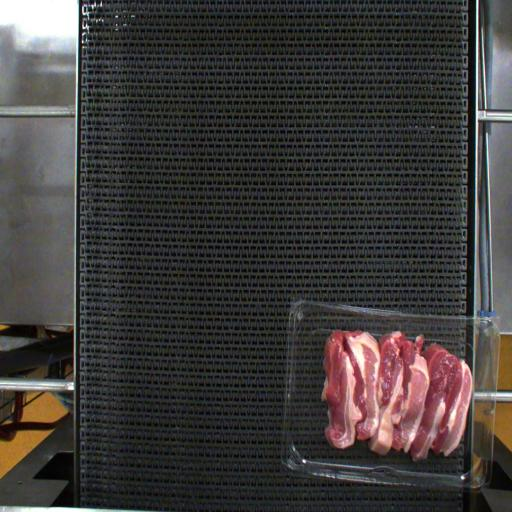twisted-meat: (362, 334, 402, 460)
